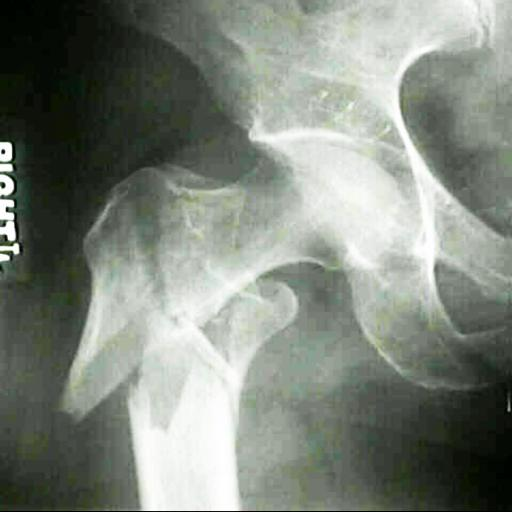subtrochanteric: (59, 143, 402, 420), (127, 280, 297, 512)
